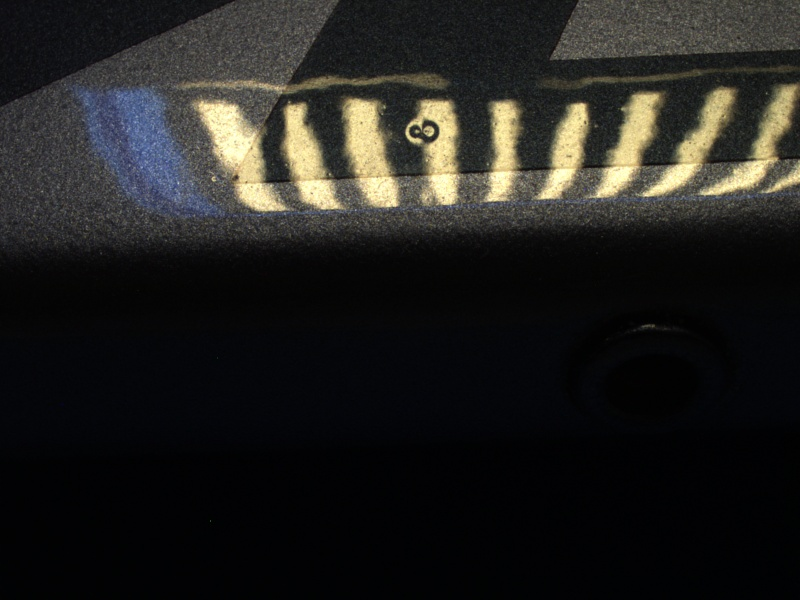bad: (402, 113, 446, 149)
